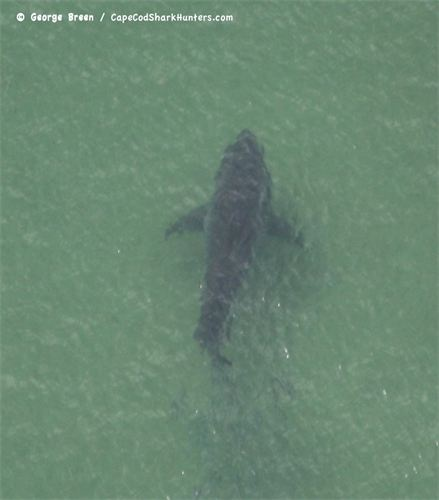shark: (149, 126, 308, 373)
